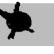not correct: (0, 1, 36, 40)
